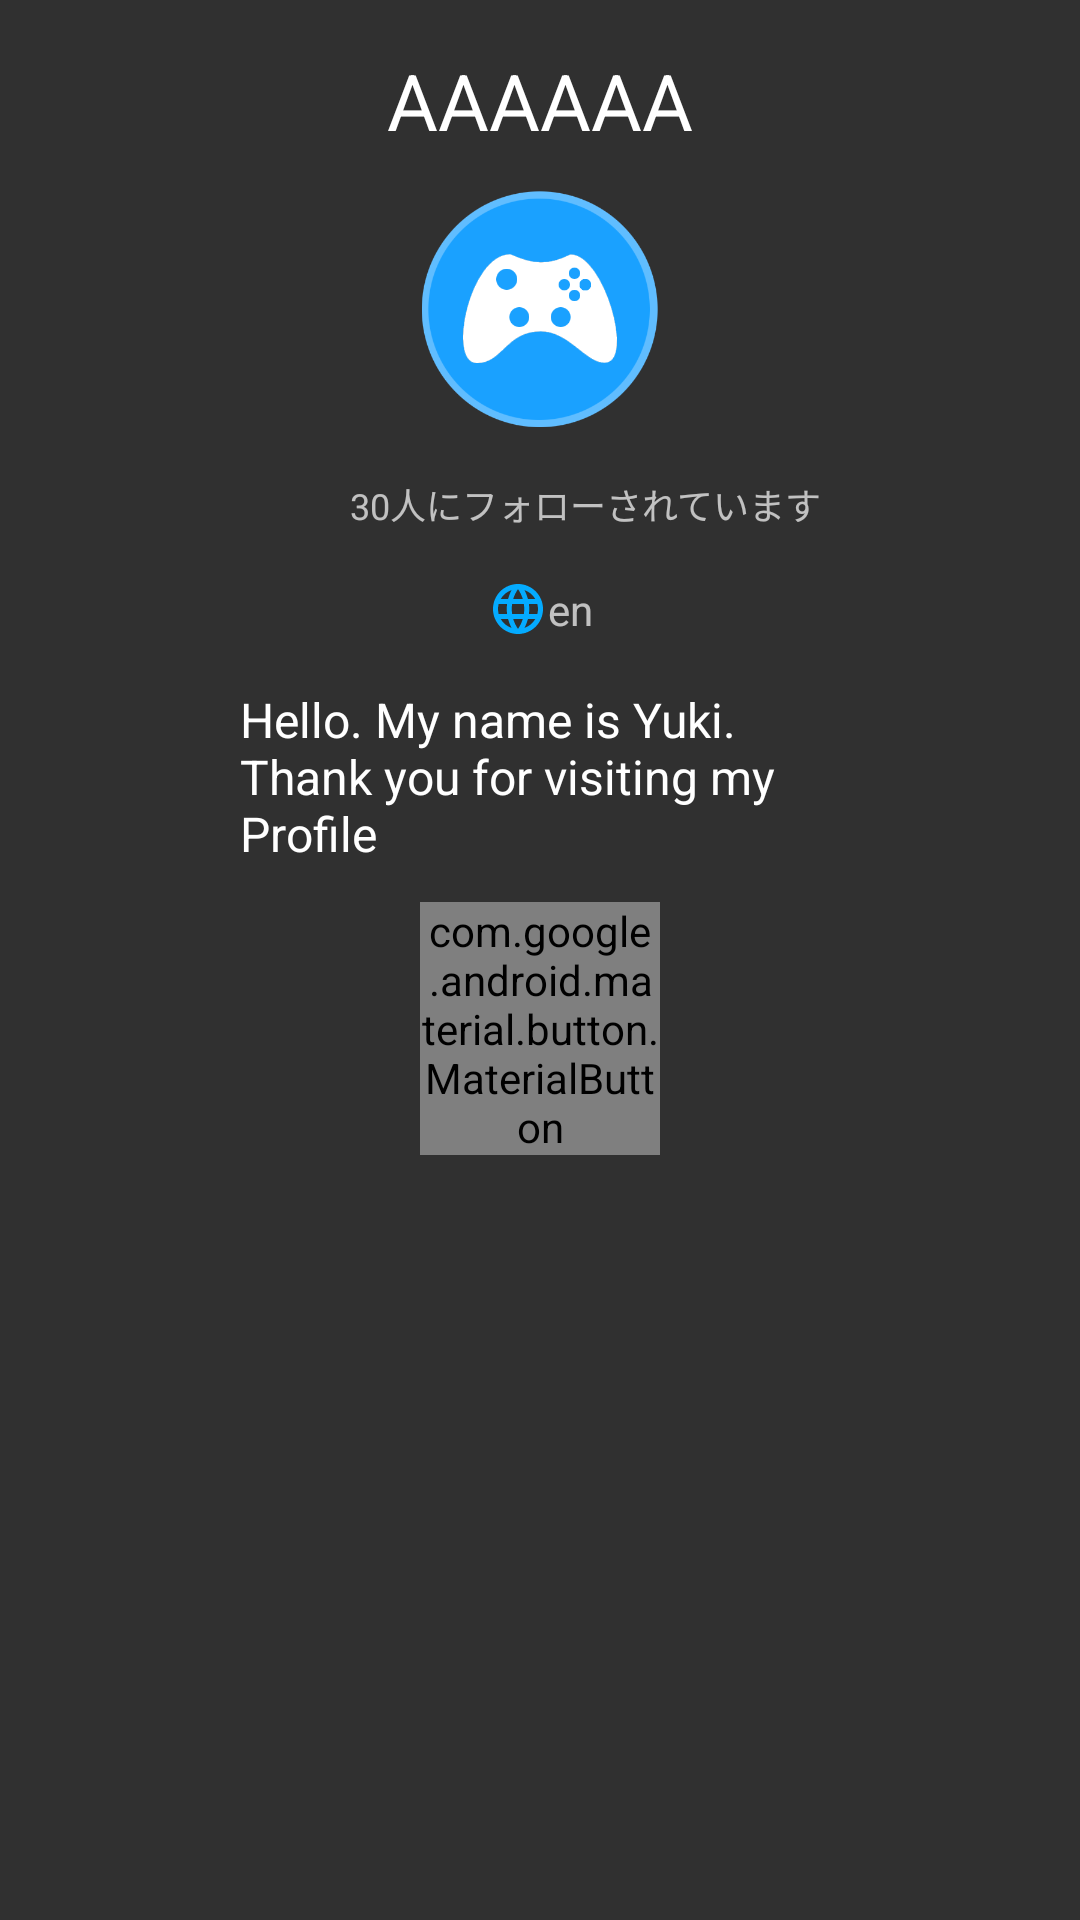

Icon bounding boxes for this 1080 x 1920 phone screenshot, format (x1, y1, x2, y2):
game: (422, 191, 658, 427)
language: (493, 584, 543, 634)
